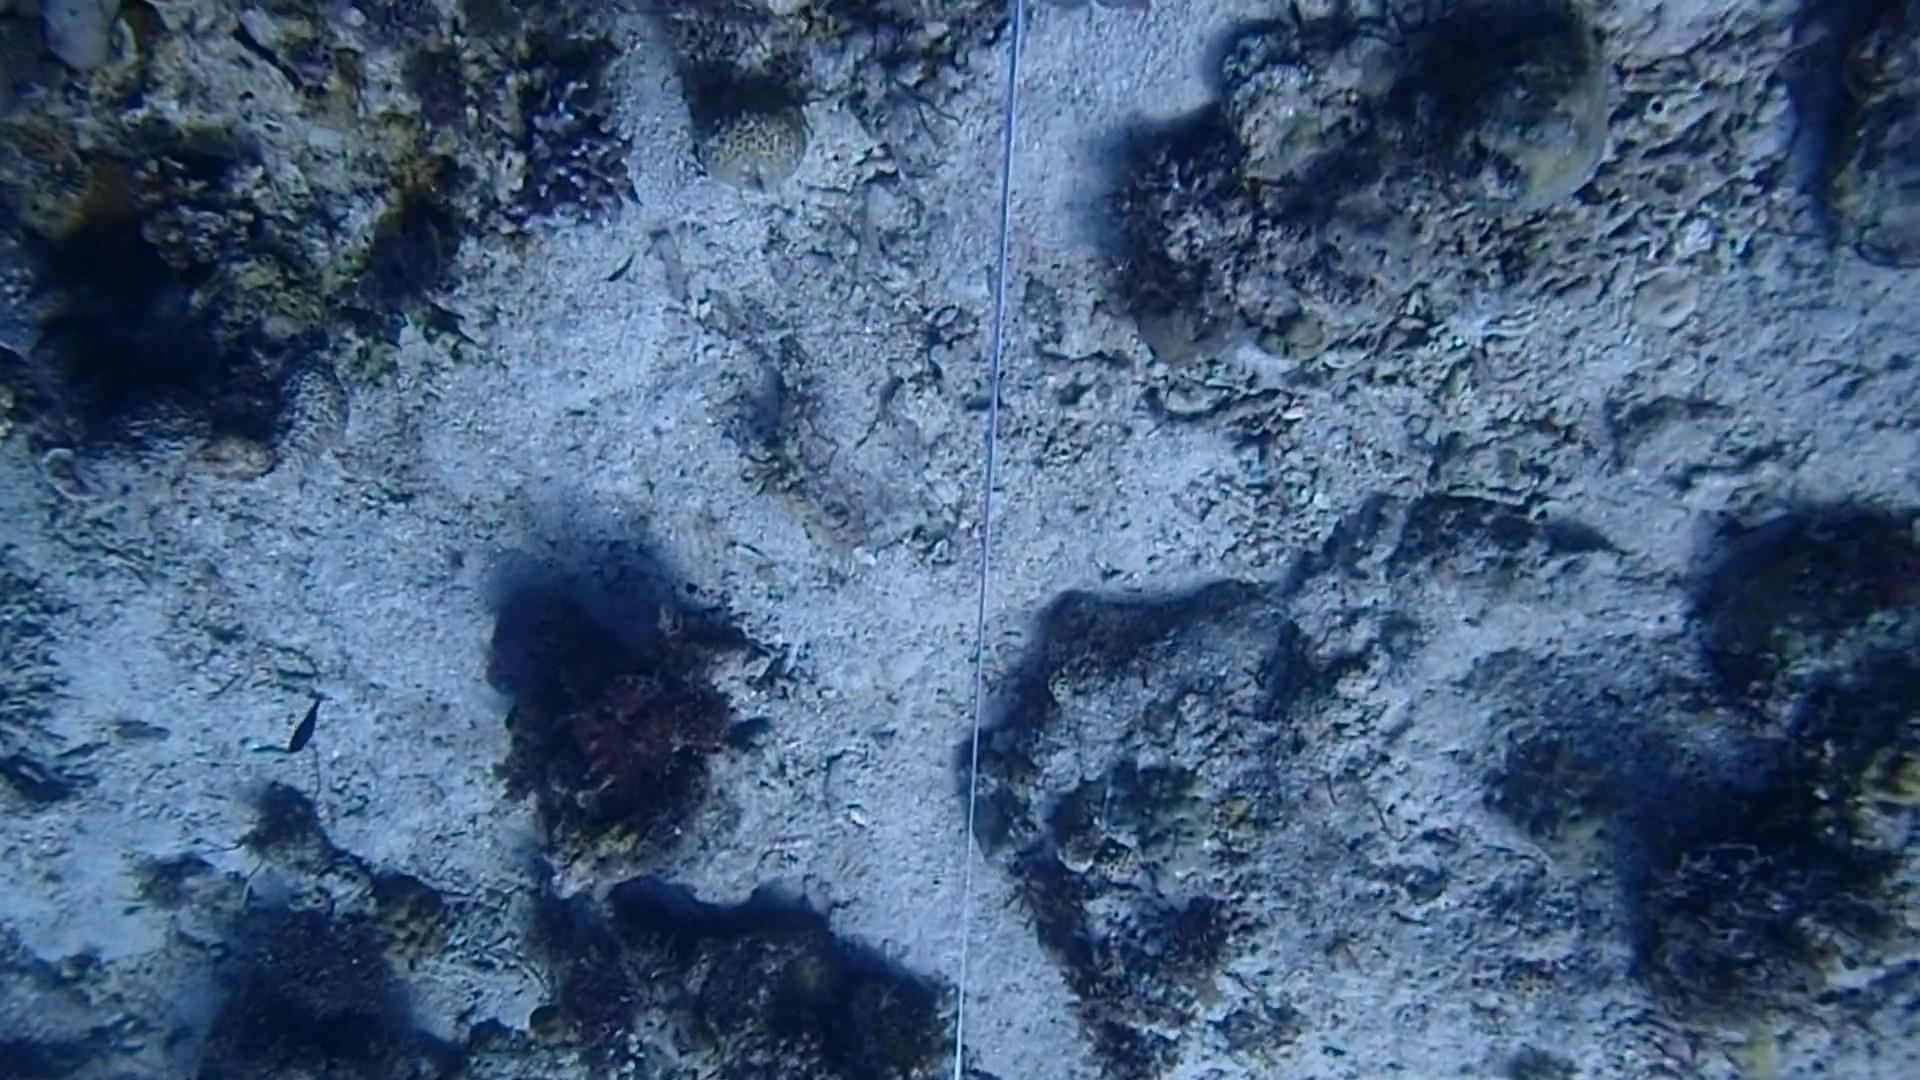Dark Fish: (270, 688, 340, 765)
